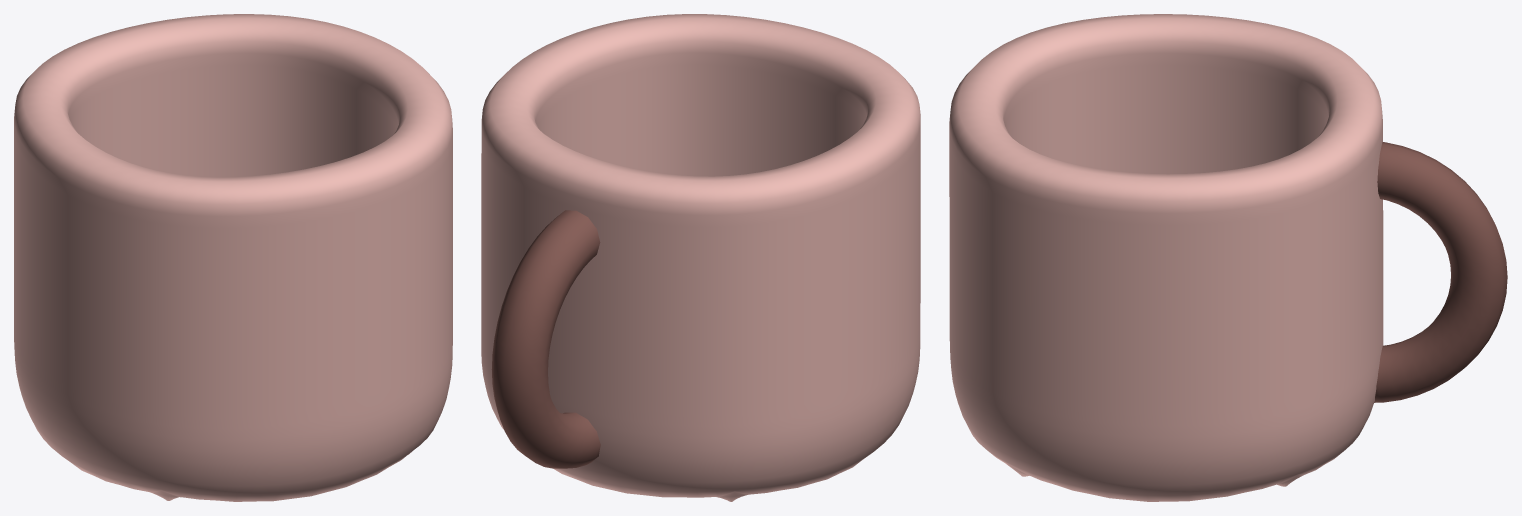
The model's file is cup.fbx.
The picture shows the model from 3 angles, left to right: view 1: azimuth 30°, elevation 25°; view 2: azimuth 150°, elevation 25°; view 3: azimuth 270°, elevation 25°; orthographic projection.
Parts seen in each view (by area): view 1: cup; view 2: cup; view 3: cup.
Boxes of the visible parts, bbox=[...] form: cup: bbox=[14, 14, 452, 501]; cup: bbox=[481, 14, 920, 501]; cup: bbox=[949, 14, 1507, 501].
Size of the model in its own units: 14.23 by 18.31 by 12.04.
